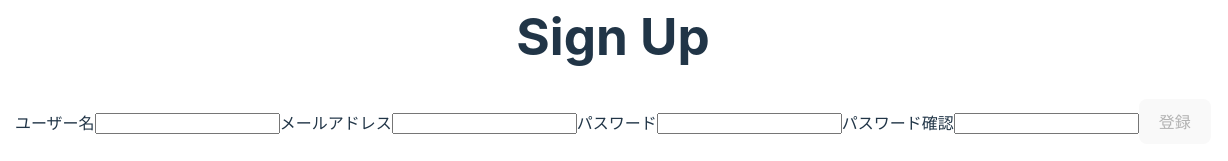
Test: SignUpPage › インタラクション › 全フォーム入力済み、かつパスワードとパスワード確認が同じ値の場合、登録のdisabledが解除される
Type "User" into the field labelled "ユーザー名".
click(187, 124); type("User")  # box [95,114,280,134]
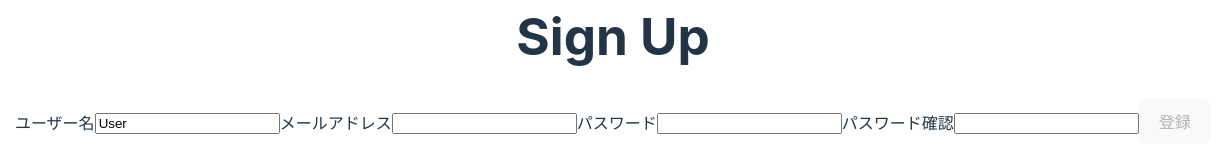
Type "user@example.com" into the field labelled "メールアドレス".
click(484, 124); type("user@example.com")  # box [392,114,577,134]
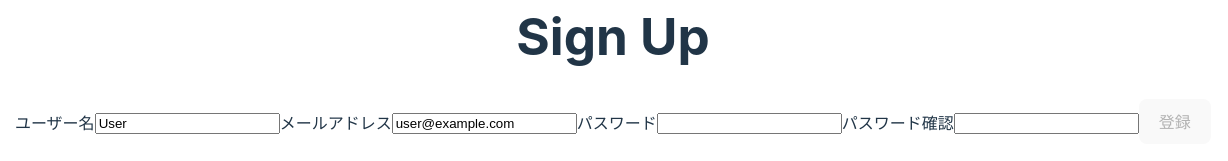
Type "P4ssw0rd" into the password field labelled "パスワード".
click(749, 124); type("P4ssw0rd")  # box [657,114,842,134]
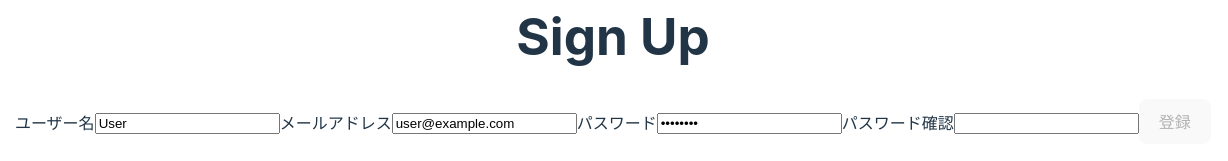
Type "P4ssw0rd" into the password field labelled "パスワード確認".
click(1046, 124); type("P4ssw0rd")  # box [954,114,1139,134]
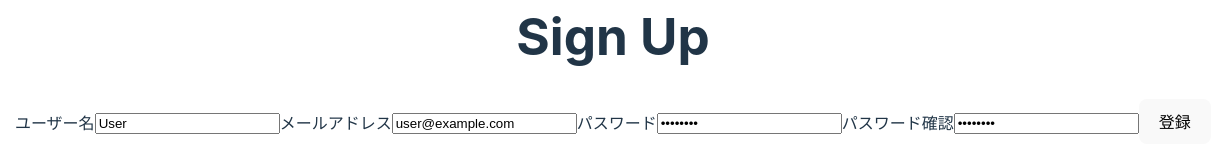
Now the button "登録" is enabled, box [1139,99,1211,144]
